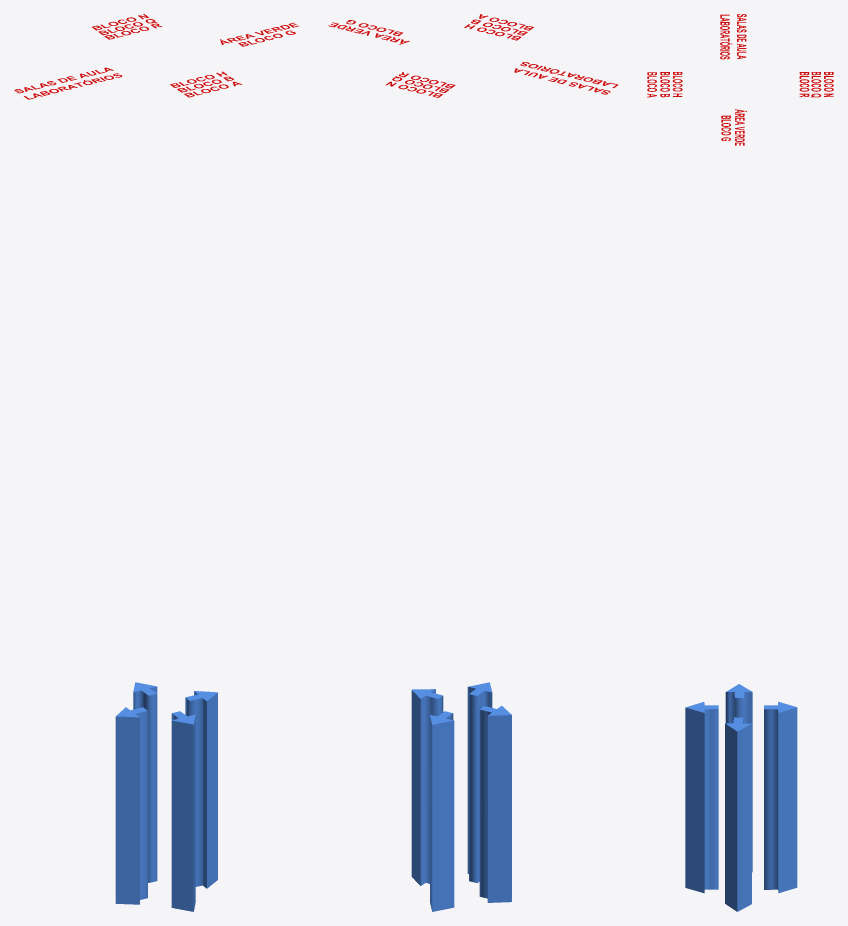
Rendered from Seta bloco M - 0.glb.
The picture shows the model from 3 angles, left to right: view 1: azimuth 30°, elevation 25°; view 2: azimuth 150°, elevation 25°; view 3: azimuth 270°, elevation 25°; orthographic projection. The views are drawn at different scales.
Visible parts, largest first — view 1: Curve.001, Curve.004, Curve.003, Curve.006; view 2: Curve.001, Curve.006, Curve.003, Curve.004; view 3: Curve.004, Curve.006, Curve.003, Curve.001.
Part boxes in pixels (x1,y1,x2,y2): Curve.001: (115,707,147,904); Curve.004: (171,711,195,911); Curve.003: (185,691,217,888); Curve.006: (133,682,157,882); Curve.001: (479,705,511,902); Curve.006: (430,711,454,911); Curve.003: (411,689,443,885); Curve.004: (467,682,492,882); Curve.004: (685,702,718,893); Curve.006: (764,701,797,893); Curve.003: (725,717,751,911); Curve.001: (725,684,752,872).
Size of the model in its own units: 0.2062 by 0.5868 by 0.1234.
